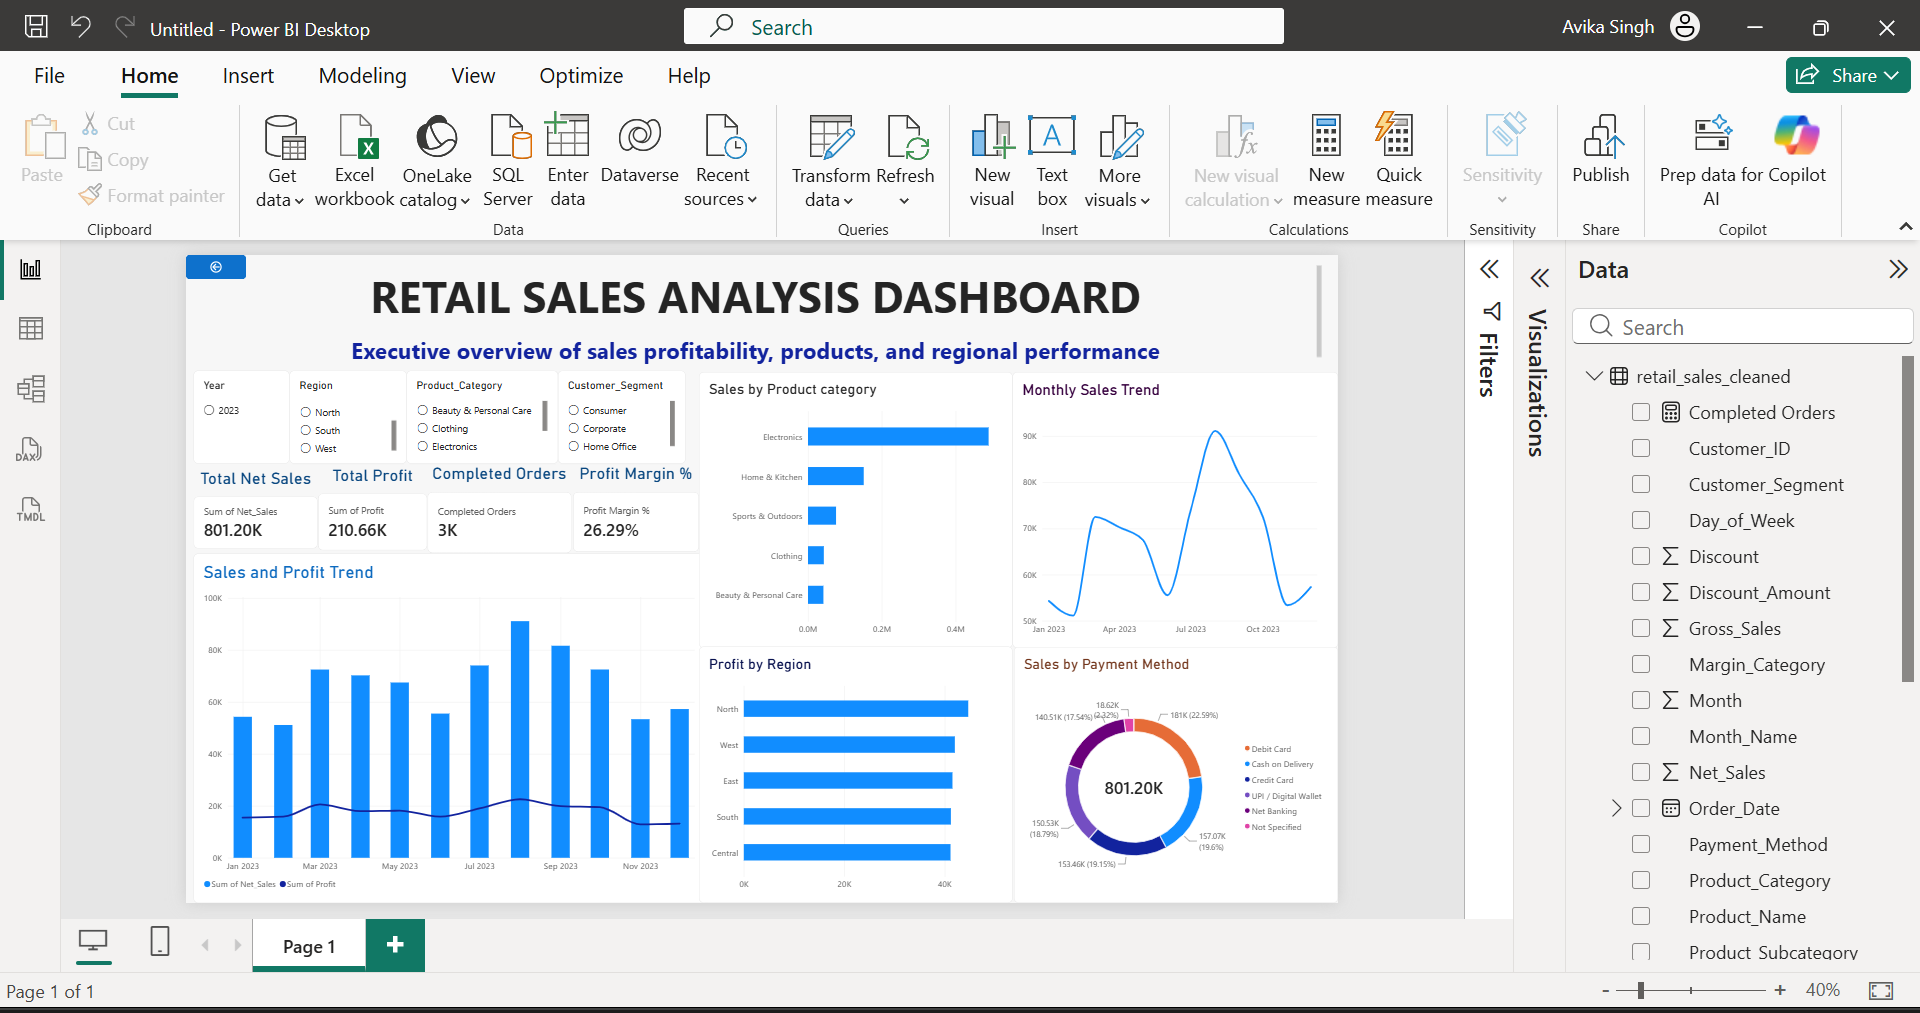

What the dashboard file says about the page in this screenshot:
{"tool":"powerbi","page":{"name":"Page 1","canvas":[1920,1080],"ordinal":0},"visuals":[{"type":"textbox","box":[12.5,17.5,1880,175],"z":0},{"type":"cardVisual","title":"Total Net Sales","fields":{"Data":["Sum(retail_sales_cleaned.Net_Sales)"]},"box":[12.5,355,207.5,135],"z":1000},{"type":"cardVisual","title":"Total Profit","fields":{"Data":["Sum(retail_sales_cleaned.Profit)"]},"box":[220,350,182.5,142.5],"z":2000},{"type":"cardVisual","title":"Completed Orders","fields":{"Data":["retail_sales_cleaned.Completed Orders"]},"box":[402.5,347.5,240,150],"z":3000},{"type":"cardVisual","title":"Profit Margin %","fields":{"Data":["retail_sales_cleaned.Profit Margin %"]},"box":[645,347.5,210,147.5],"z":4000},{"type":"lineClusteredColumnComboChart","title":"Sales and Profit Trend","fields":{"Category":["retail_sales_cleaned.Year_Month"],"Y":["Sum(retail_sales_cleaned.Net_Sales)"],"Y2":["Sum(retail_sales_cleaned.Profit)"]},"box":[12.5,497.5,860,582.5],"z":5000},{"type":"clusteredBarChart","title":"Sales by Product category","fields":{"Category":["retail_sales_cleaned.Product_Category"],"Y":["Sum(retail_sales_cleaned.Net_Sales)"]},"box":[855,195,522.5,460],"z":6000},{"type":"barChart","title":"Profit by Region","fields":{"Category":["retail_sales_cleaned.Region"],"Y":["Sum(retail_sales_cleaned.Profit)"]},"box":[855,652.5,522.5,427.5],"z":7000},{"type":"donutChart","title":"Sales by Payment Method","fields":{"Category":["retail_sales_cleaned.Payment_Method"],"Y":["Sum(retail_sales_cleaned.Net_Sales)"]},"box":[1380,652.5,540,427.5],"z":8000},{"type":"lineChart","title":"Monthly Sales Trend","fields":{"Category":["retail_sales_cleaned.Year_Month"],"Y":["Sum(retail_sales_cleaned.Net_Sales)"]},"box":[1377.5,195,542.5,460],"z":9000},{"type":"listSlicer","fields":{"Values":["retail_sales_cleaned.Year"]},"box":[12.5,192.5,160,155],"z":10000},{"type":"actionButton","box":[0,0,100,40],"z":10001},{"type":"listSlicer","fields":{"Values":["retail_sales_cleaned.Region"]},"box":[172.5,192.5,195,155],"z":10002},{"type":"listSlicer","fields":{"Values":["retail_sales_cleaned.Product_Category"]},"box":[367.5,192.5,252.5,155],"z":10003},{"type":"listSlicer","fields":{"Values":["retail_sales_cleaned.Customer_Segment"]},"box":[620,192.5,212.5,155],"z":10004}]}

Visuals, with their boxes on the page's 1920x1080 design canvas (x1, y1, x2, y2). These are canvas units, not pixel positions in the 1920x1013 screenshot, which may show the page scaled, cropped or inside an application window:
textbox: (12,18,1892,192)
"Total Net Sales" cardVisual: (12,355,220,490)
"Total Profit" cardVisual: (220,350,402,492)
"Completed Orders" cardVisual: (402,348,642,498)
"Profit Margin %" cardVisual: (645,348,855,495)
"Sales and Profit Trend" lineClusteredColumnComboChart: (12,498,872,1080)
"Sales by Product category" clusteredBarChart: (855,195,1378,655)
"Profit by Region" barChart: (855,652,1378,1080)
"Sales by Payment Method" donutChart: (1380,652,1920,1080)
"Monthly Sales Trend" lineChart: (1378,195,1920,655)
listSlicer - retail_sales_cleaned.Year: (12,192,172,348)
actionButton: (0,0,100,40)
listSlicer - retail_sales_cleaned.Region: (172,192,368,348)
listSlicer - retail_sales_cleaned.Product_Category: (368,192,620,348)
listSlicer - retail_sales_cleaned.Customer_Segment: (620,192,832,348)
